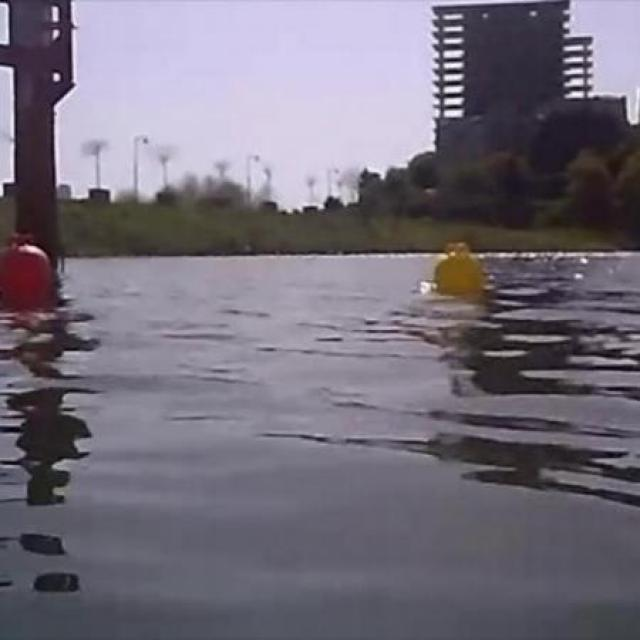buoy: (0, 232, 54, 308), (434, 241, 486, 297)
